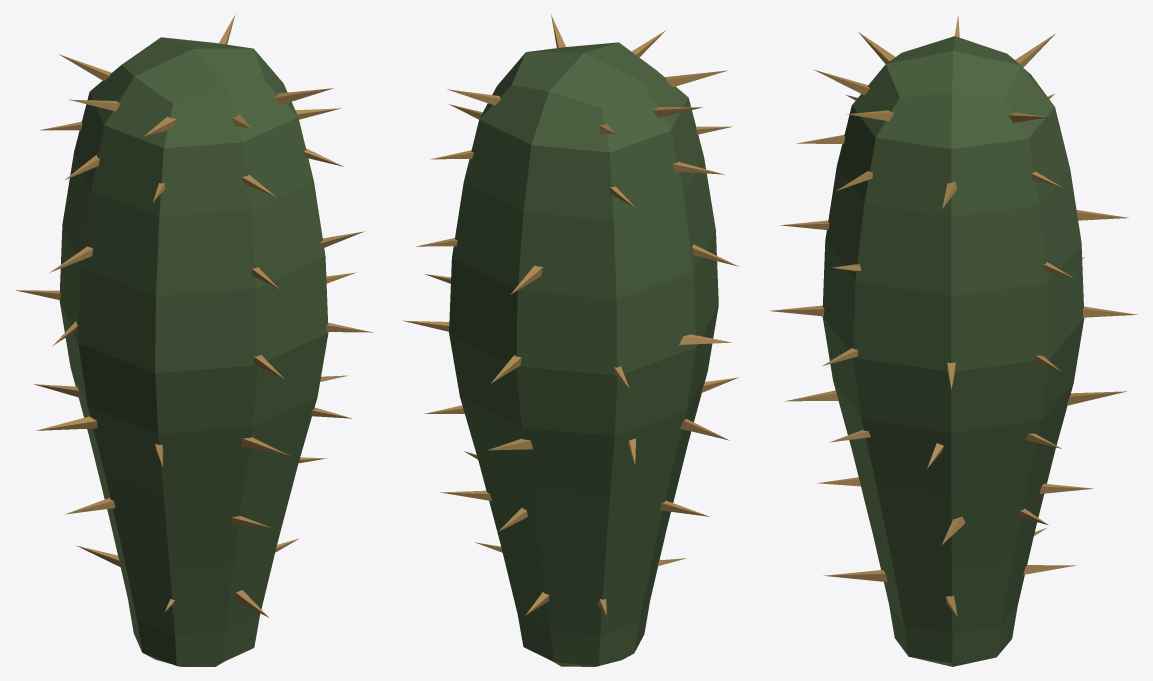
The model's file is cactus1.glb.
The picture shows the model from 3 angles, left to right: view 1: azimuth 30°, elevation 25°; view 2: azimuth 150°, elevation 25°; view 3: azimuth 270°, elevation 25°; orthographic projection.
Visible parts, largest first — view 1: Cactus_1; view 2: Cactus_1; view 3: Cactus_1.
Part boxes in pixels (x1,y1,x2,y2): Cactus_1: [16, 14, 372, 666]; Cactus_1: [402, 14, 738, 666]; Cactus_1: [769, 15, 1137, 666].
Bounding box in the file's own units: 0.5497 × 1.01 × 0.5629.
